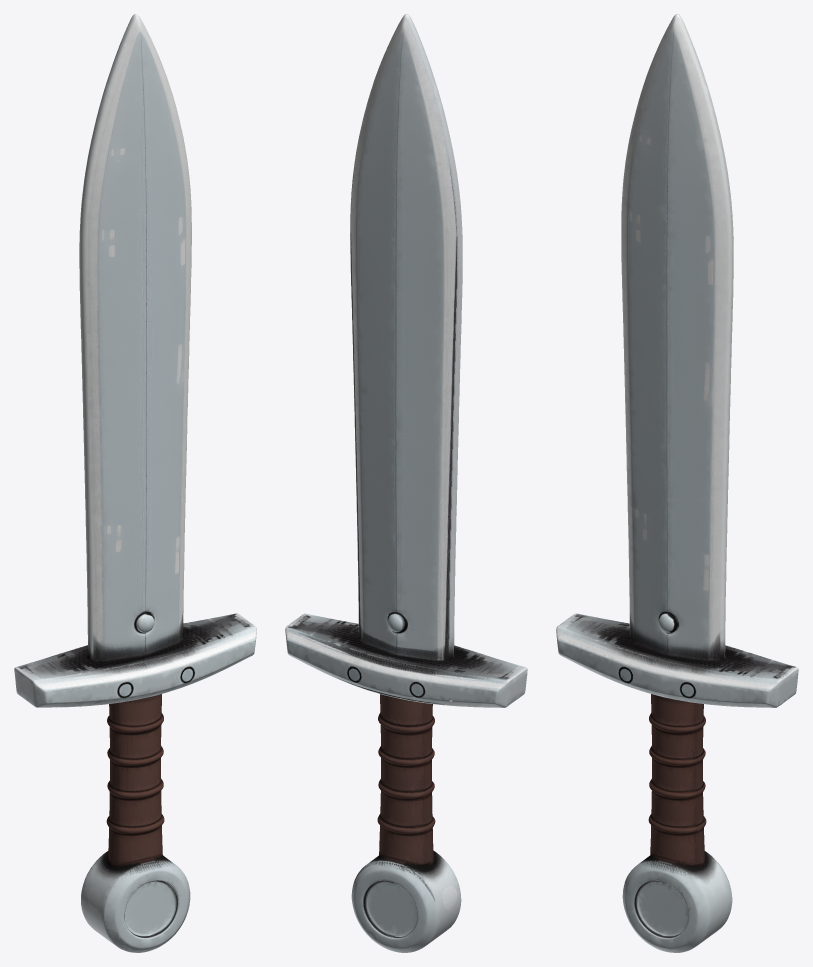
Rendered from sword_model.glb.
3 views of the same model, side by side, from view 1: azimuth 30°, elevation 25°; view 2: azimuth 150°, elevation 25°; view 3: azimuth 330°, elevation 25° (orthographic).
Size of the model in its own units: 0.4782 by 1.9 by 0.1611.
1 material, 1 textured.
